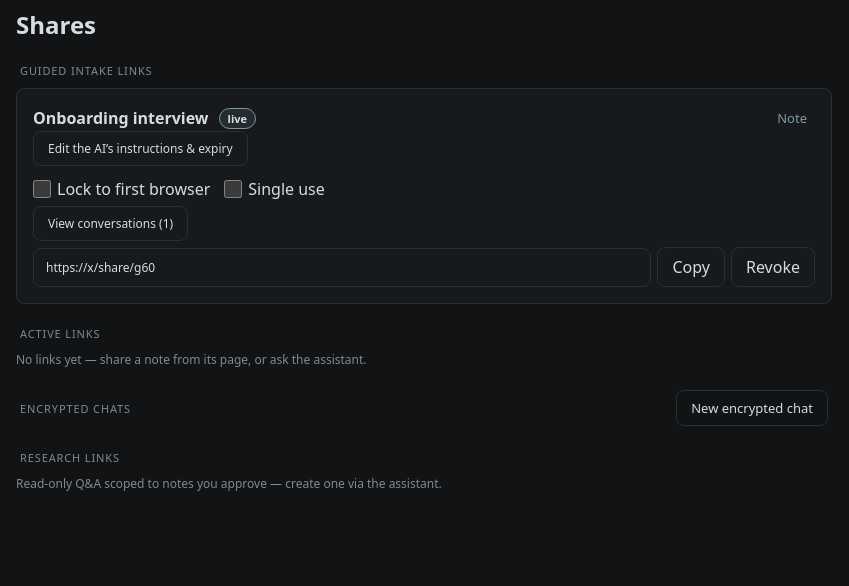
SharesPage — guided per-link sessions › shows a friendly error when a session transcript fails to load
The width and height of the screenshot is (849, 586).
Expected: the text "Onboarding interview" is shown, left=33, top=107, right=209, bottom=129
Click the button "View conversations (1)". click: (111, 224)
box: left=33, top=206, right=188, bottom=241
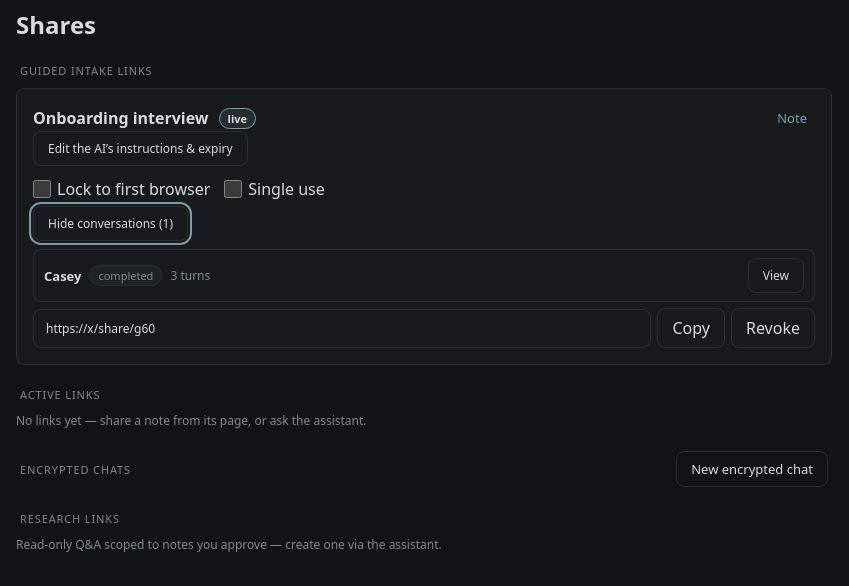
Now the text "Casey" is shown, box left=44, top=266, right=81, bottom=284
Click the button "View". click: (776, 276)
box: left=748, top=258, right=804, bottom=293
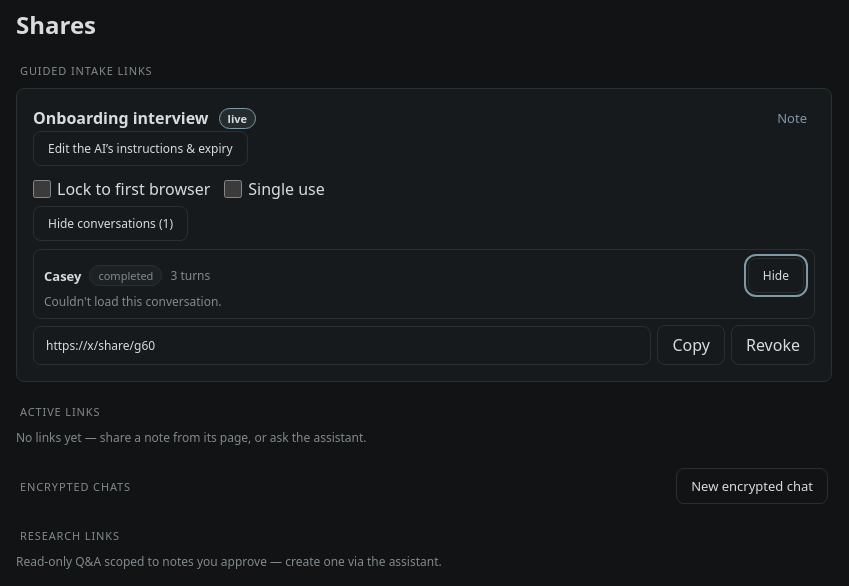
Now the text "Couldn't load this conversation." is shown, box left=44, top=293, right=222, bottom=310
